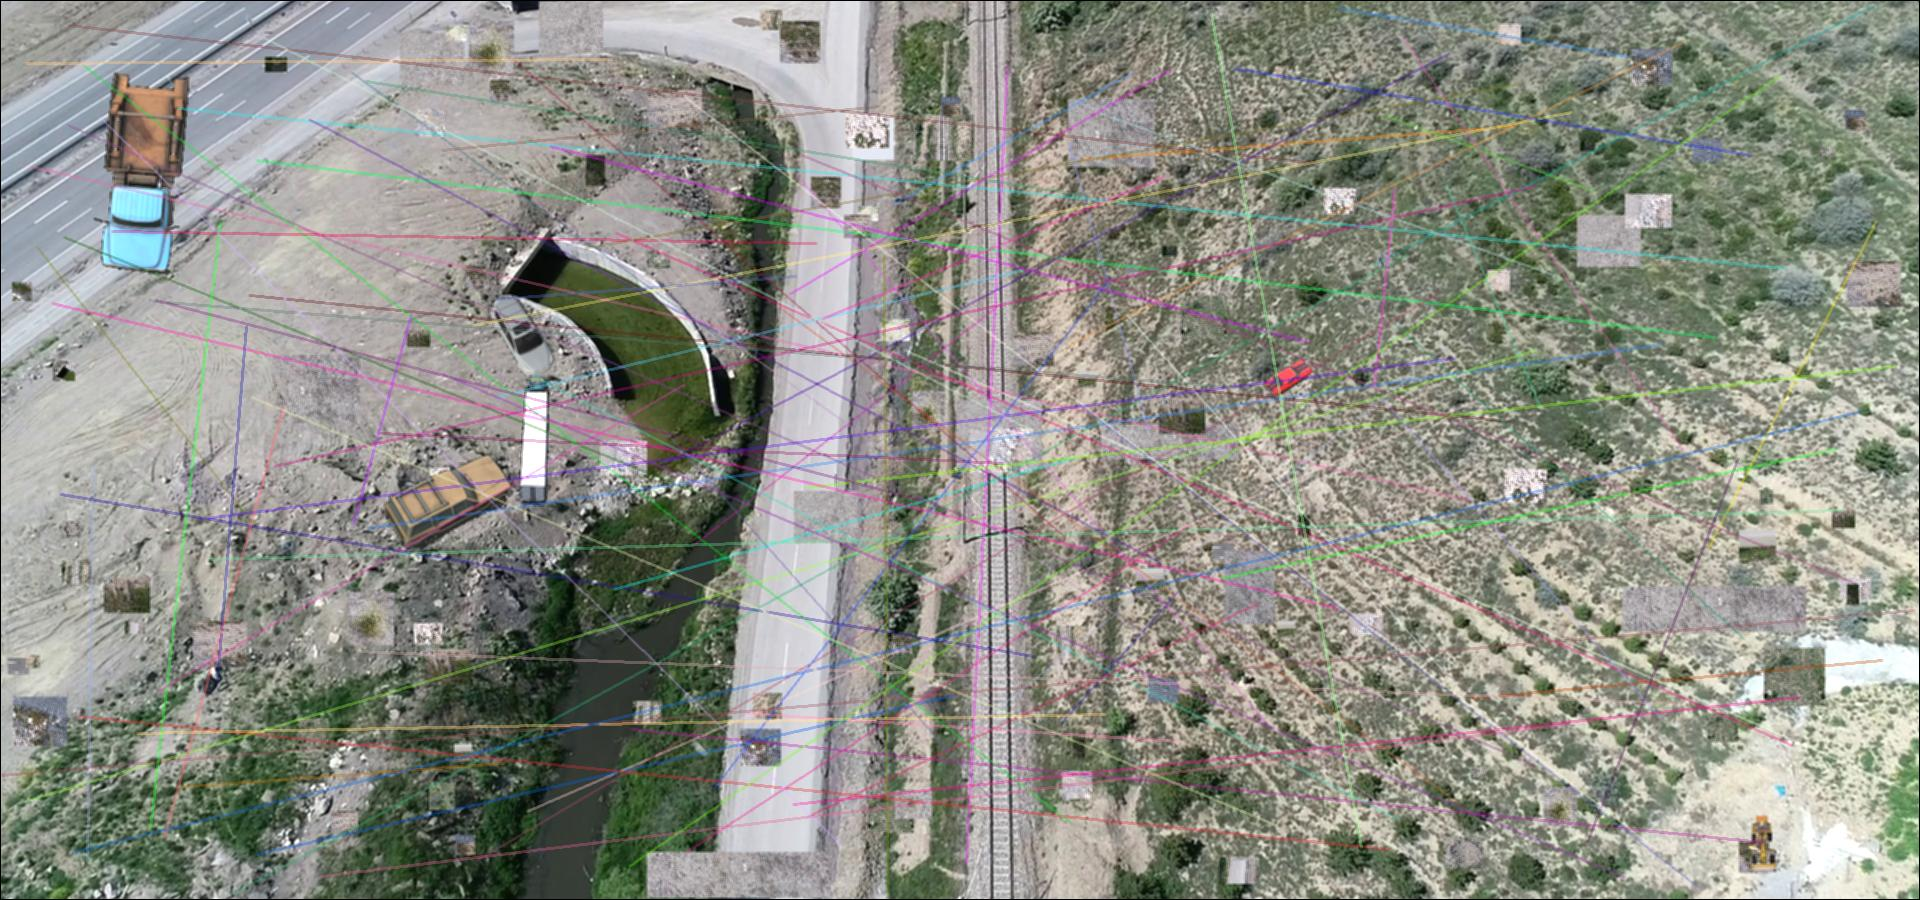arac: (94, 69, 193, 277), (380, 451, 516, 550), (485, 291, 560, 377), (516, 373, 551, 506), (1747, 816, 1779, 874), (1264, 359, 1314, 396)
